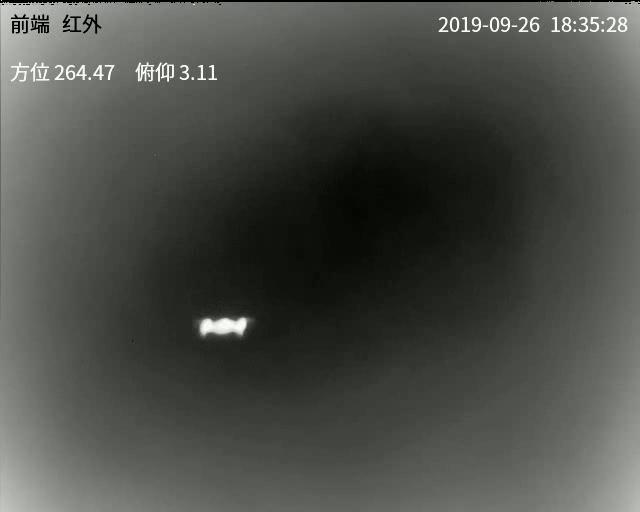DRONE: (198, 314, 249, 338)
